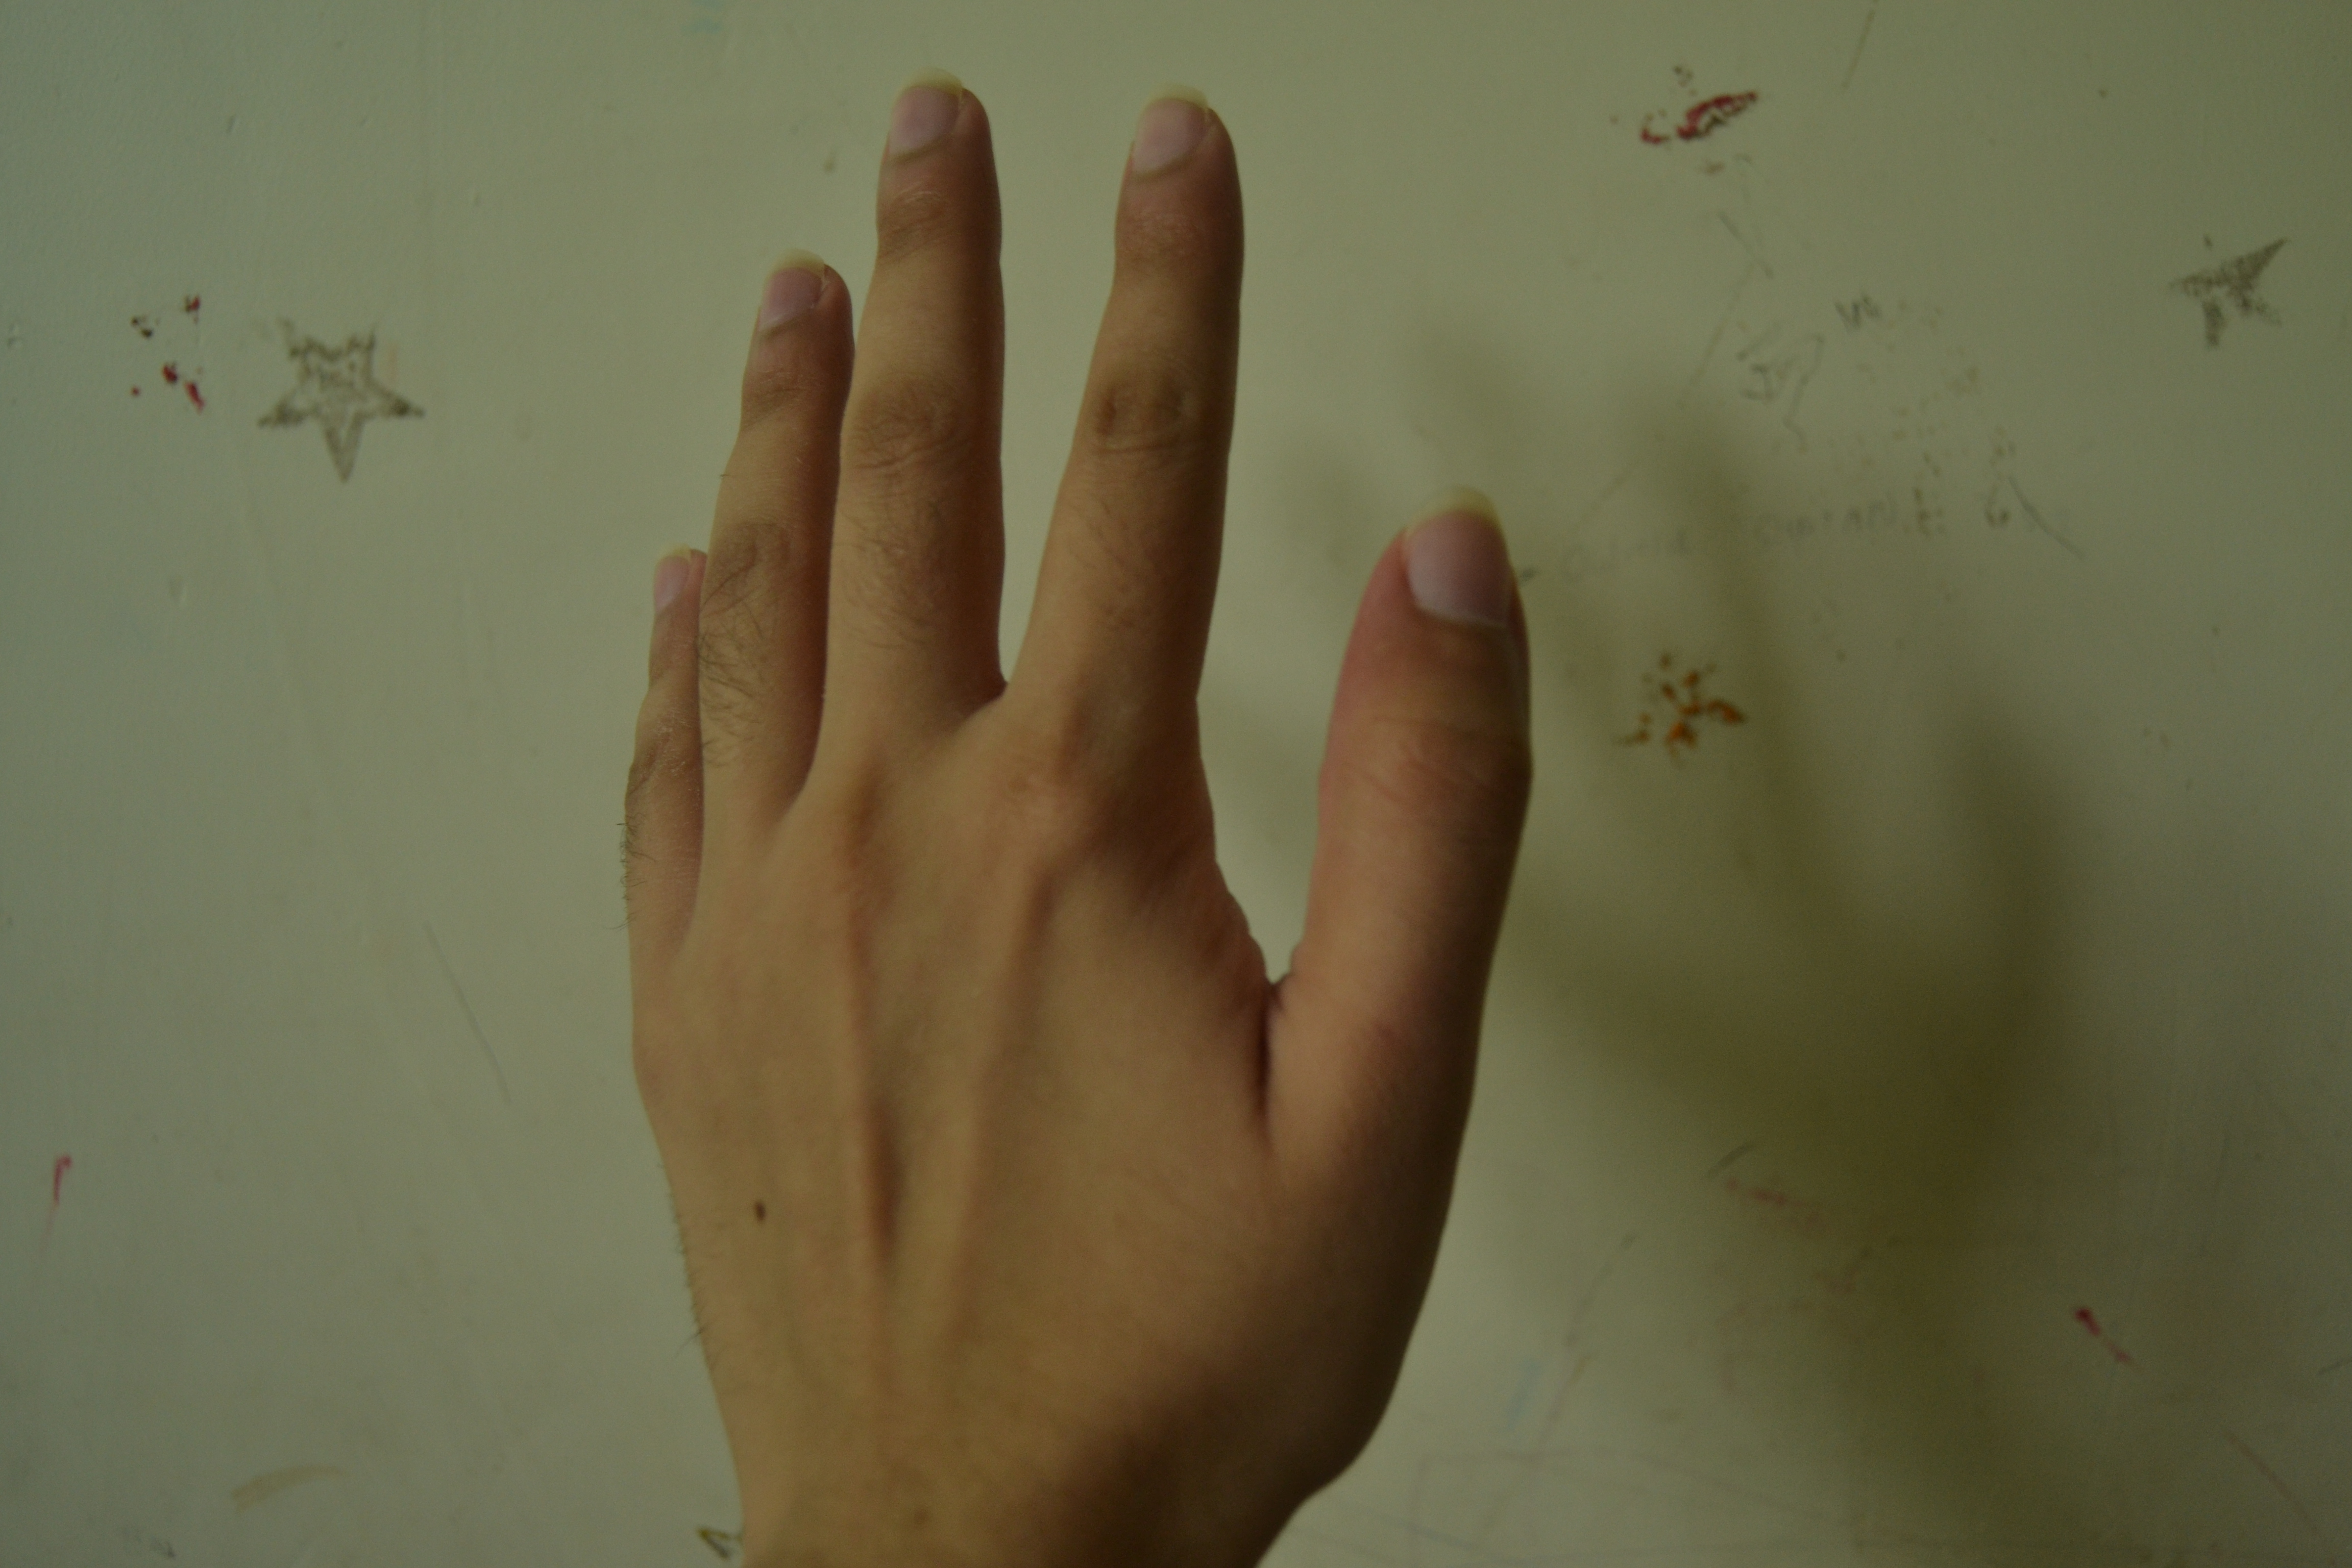move: (621, 72, 1601, 1531)
